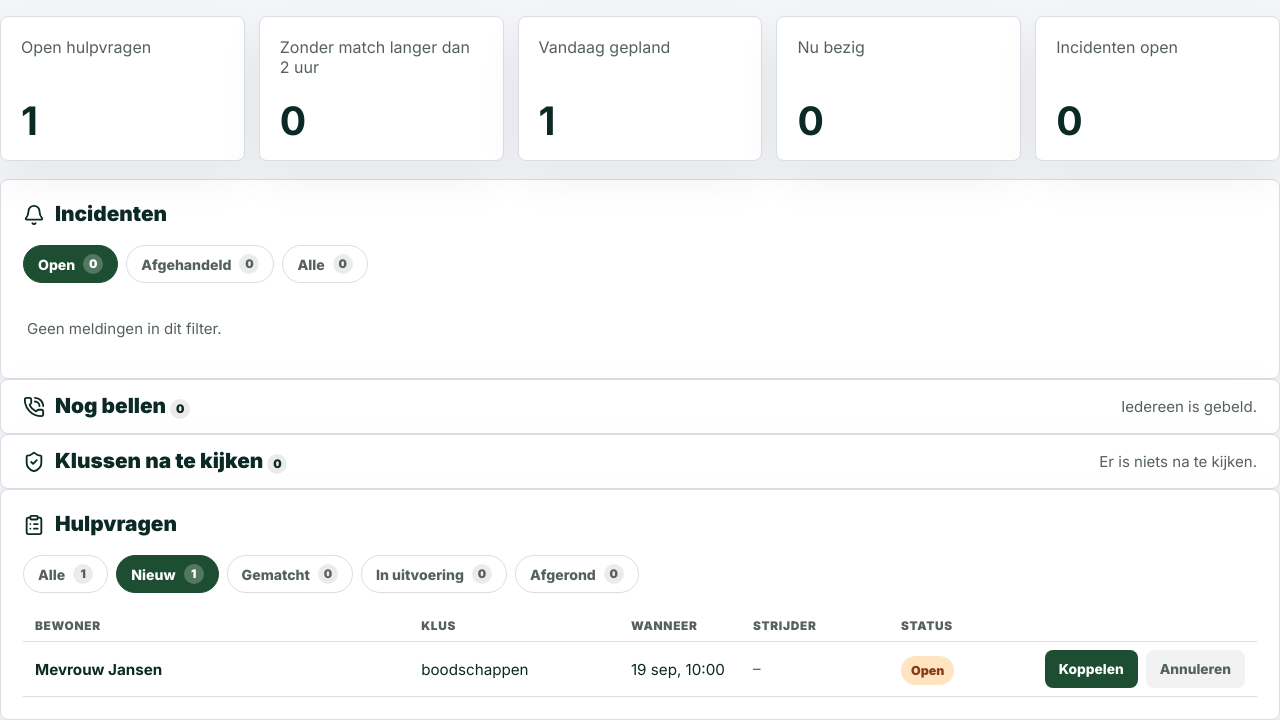
it: D1 meldkamer › koppelt handmatig met een waarschuwing voor een andere wijk
(page scrolled)
Click the button "Koppelen".
click(1091, 669)  # box [1045,650,1138,688]
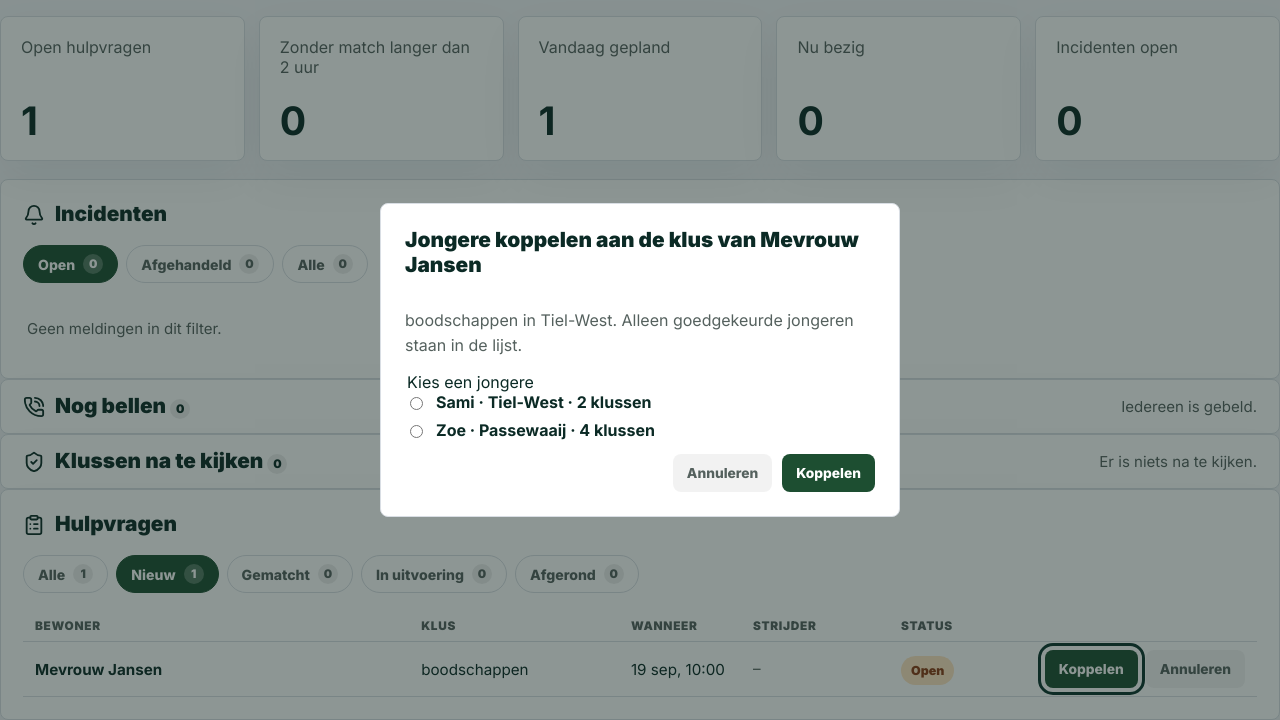
Click the radio button labelled "Zoe · Passewaaij · 4 klussen".
click(416, 432)  # box [410,425,423,438]
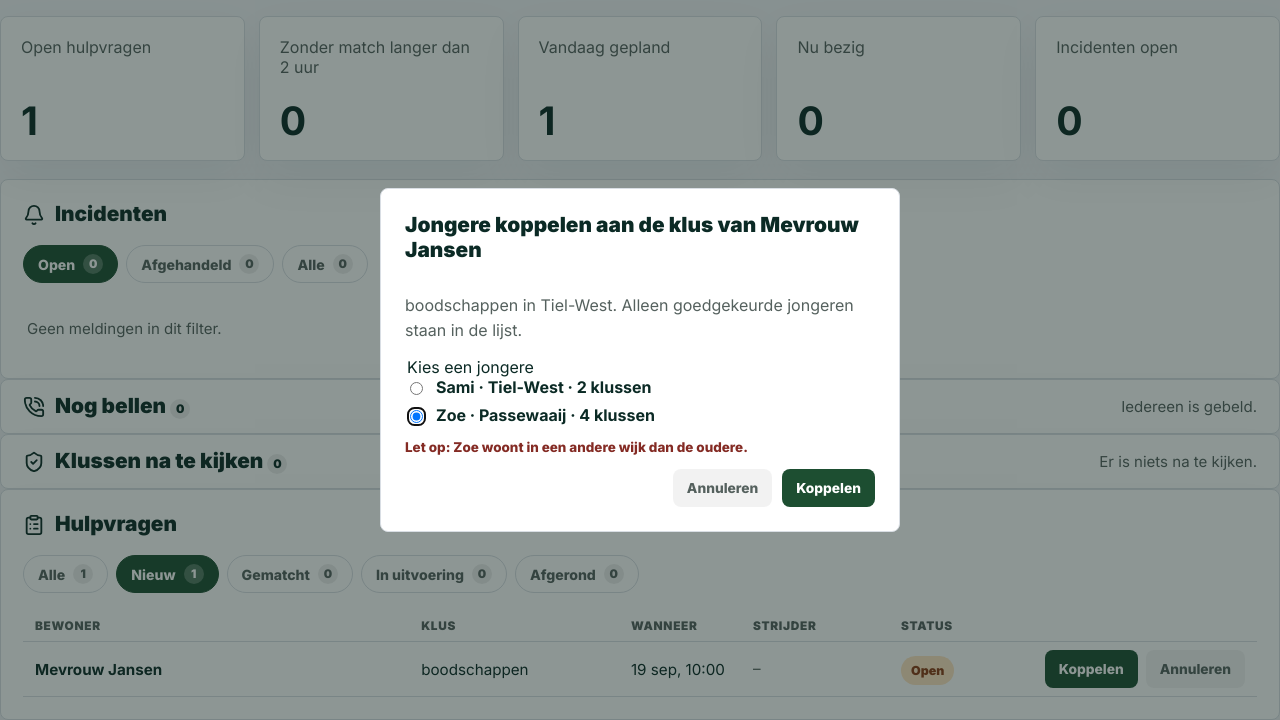
Expected: the text "Let op: Zoe woont in een andere wijk dan de oudere." is shown, [405,439,748,455]
Click the button "Koppelen".
click(829, 488)  # box [782,469,875,507]
(page scrolled)
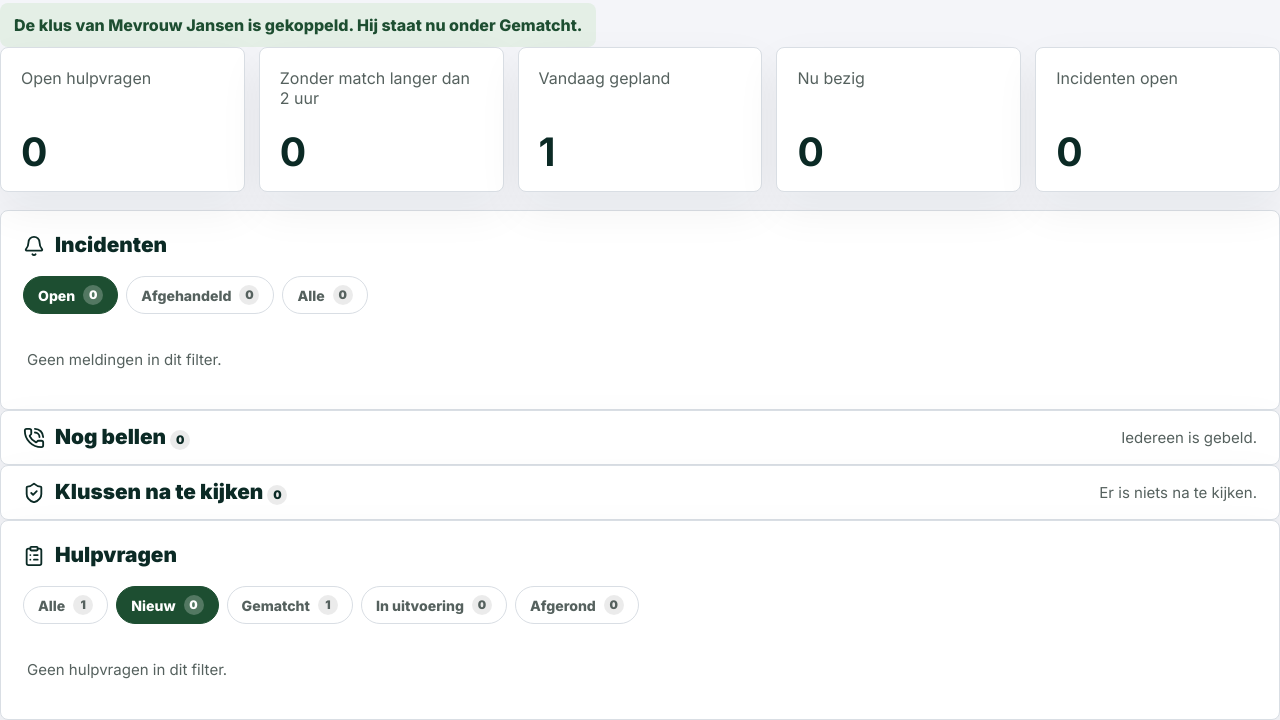
Expected: the text "De klus van Mevrouw Jansen is gekoppeld. Hij staat nu onder Gematcht." is shown, [0,3,596,47]
Expected: the tab "Gematcht 1" is shown, [227,586,353,624]
